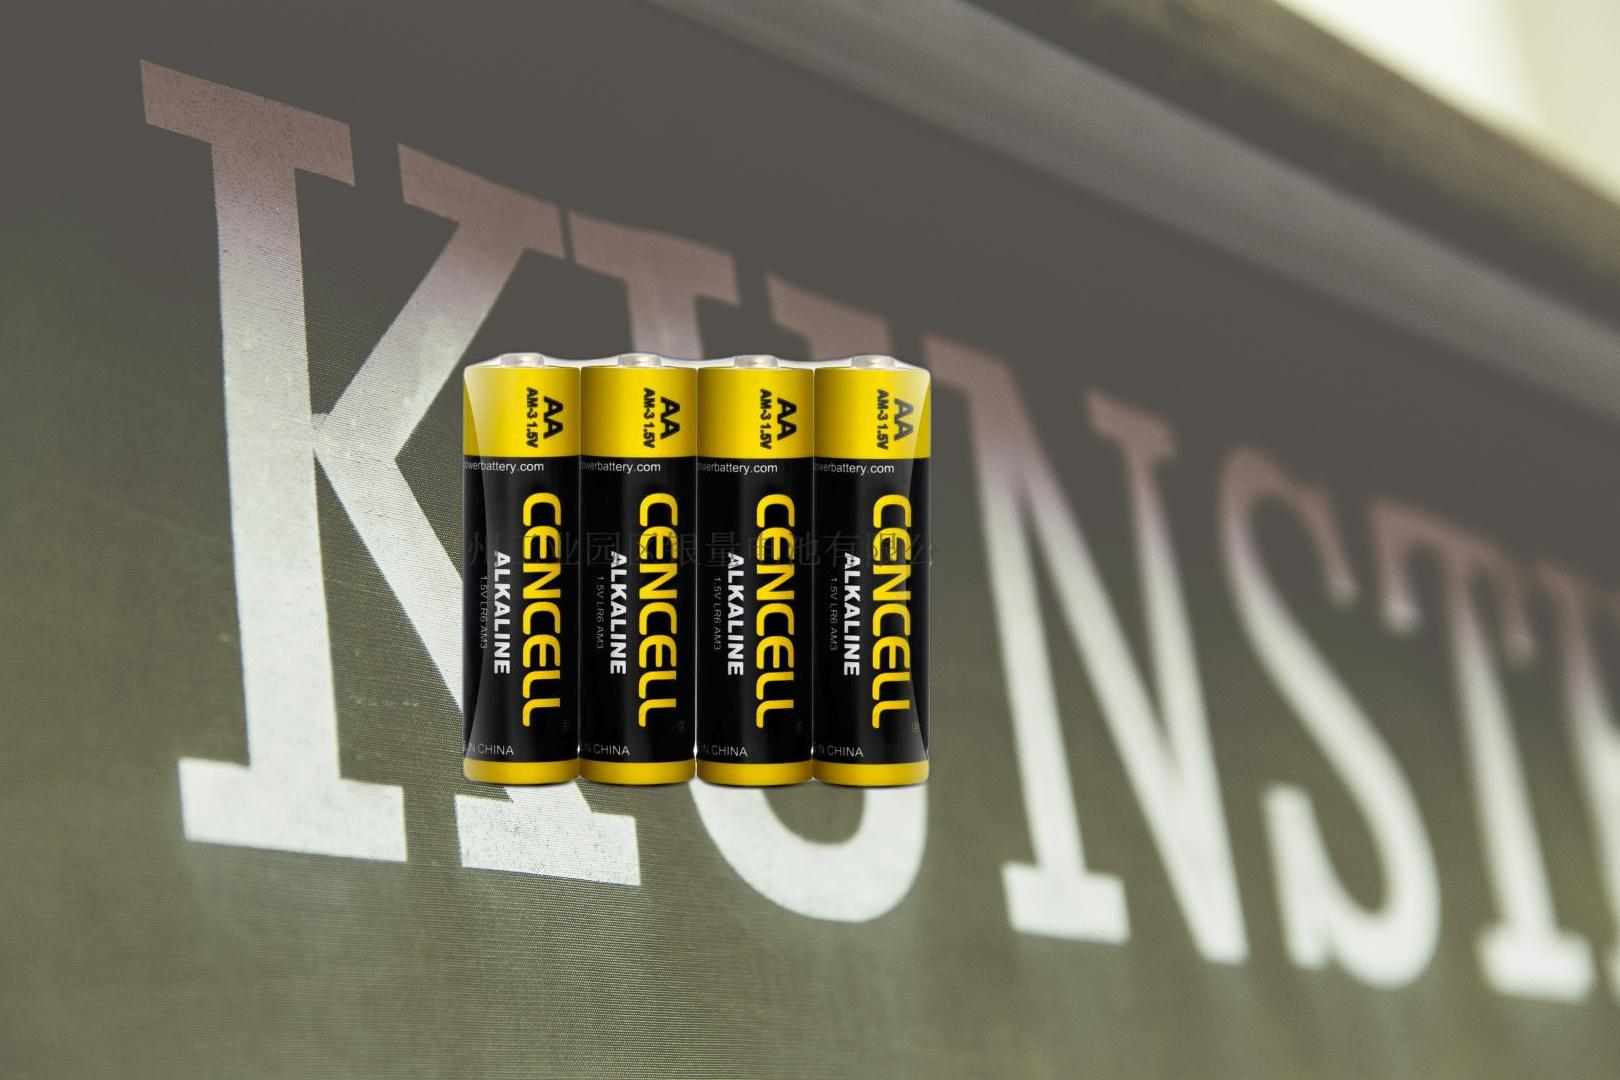battery: (457, 347, 944, 794)
